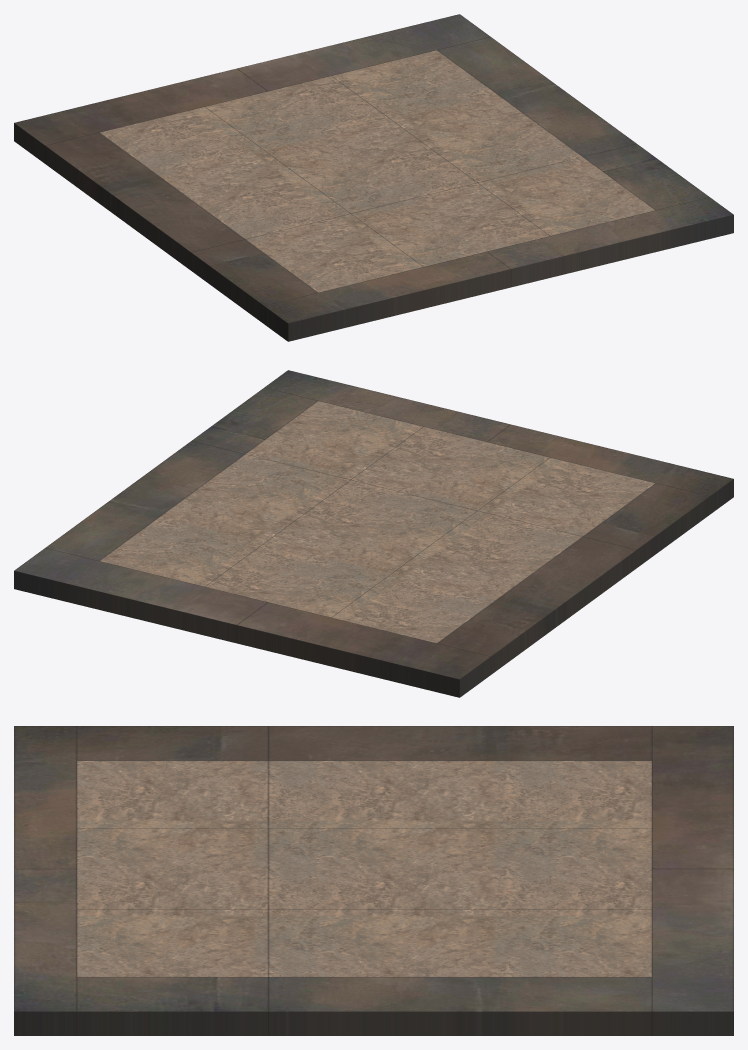
3 views of the same model, one above another, from view 1: azimuth 30°, elevation 25°; view 2: azimuth 150°, elevation 25°; view 3: azimuth 270°, elevation 25° (orthographic). The views are drawn at different scales.
Parts seen in each view (by area): view 1: Floor_8T6_8T4; view 2: Floor_8T6_8T4; view 3: Floor_8T6_8T4.
Part boxes in pixels (x1,y1,x2,y2): Floor_8T6_8T4: (14, 14, 733, 341); Floor_8T6_8T4: (14, 370, 733, 697); Floor_8T6_8T4: (14, 726, 733, 1035).
Bounding box in the file's own units: 1.61 × 0.0631 × 1.72.
1 material, 1 textured.
